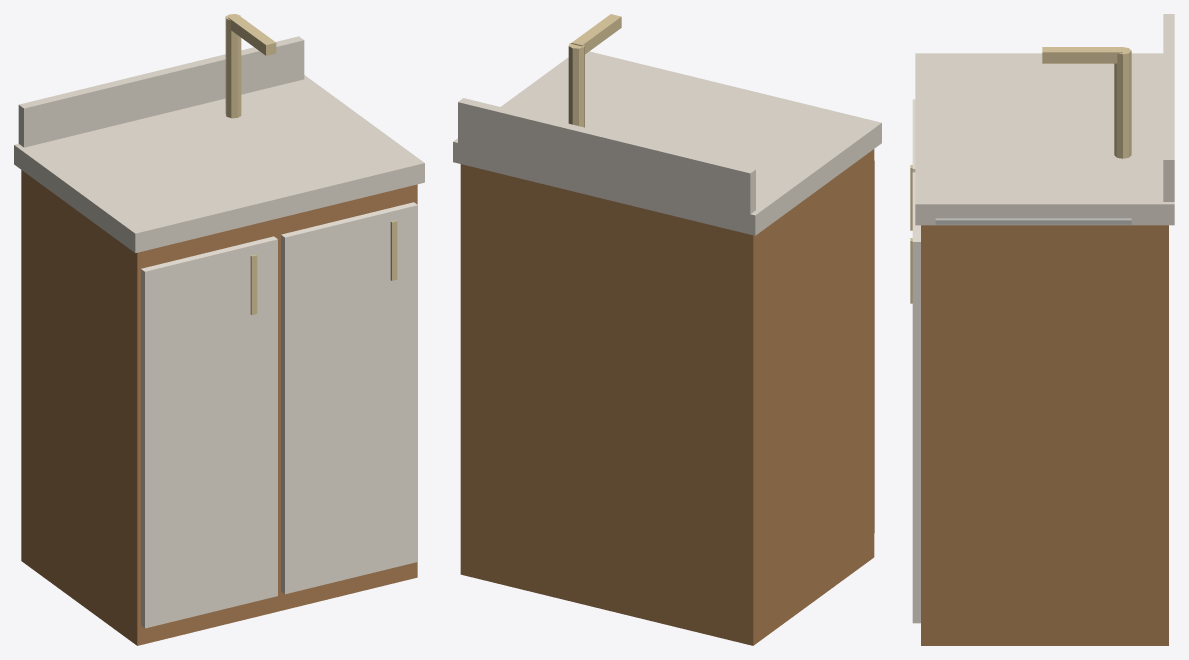
Rendered from lavatorio_60.obj.
3 renders of one model, left to right at view 1: azimuth 30°, elevation 25°; view 2: azimuth 150°, elevation 25°; view 3: azimuth 270°, elevation 25°, orthographic. The views are drawn at different scales.
Parts seen in each view (by area): view 1: lavatorio_60; view 2: lavatorio_60; view 3: lavatorio_60.
Boxes of the visible parts, box(x1,y1,x2,y2) form: lavatorio_60: box(14, 14, 424, 645); lavatorio_60: box(453, 14, 881, 645); lavatorio_60: box(910, 14, 1174, 645).
Bounding box in the file's own units: 0.628 × 1.05 × 0.459.
